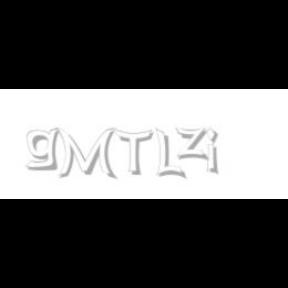L: (155, 128, 183, 180)
M: (56, 128, 114, 180)
T: (113, 128, 153, 176)
g: (26, 128, 62, 171)
i: (206, 128, 222, 176)
z: (175, 128, 211, 160)
